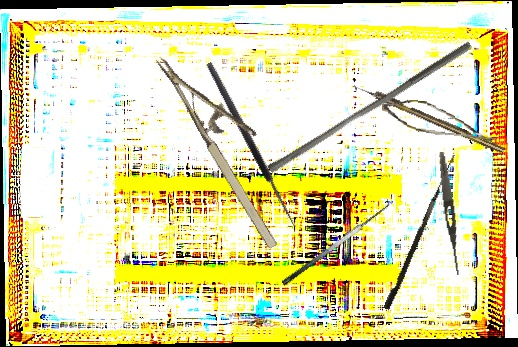Dressing Forceps: (435, 151, 465, 276)
Hook Surgical: (204, 57, 308, 230), (352, 80, 506, 156), (383, 151, 455, 312)
Micro Scissor: (379, 96, 502, 146)
Needle Holder: (155, 34, 309, 253)
Pusher: (267, 33, 473, 181)
Spatula Surgical: (274, 195, 396, 287)
